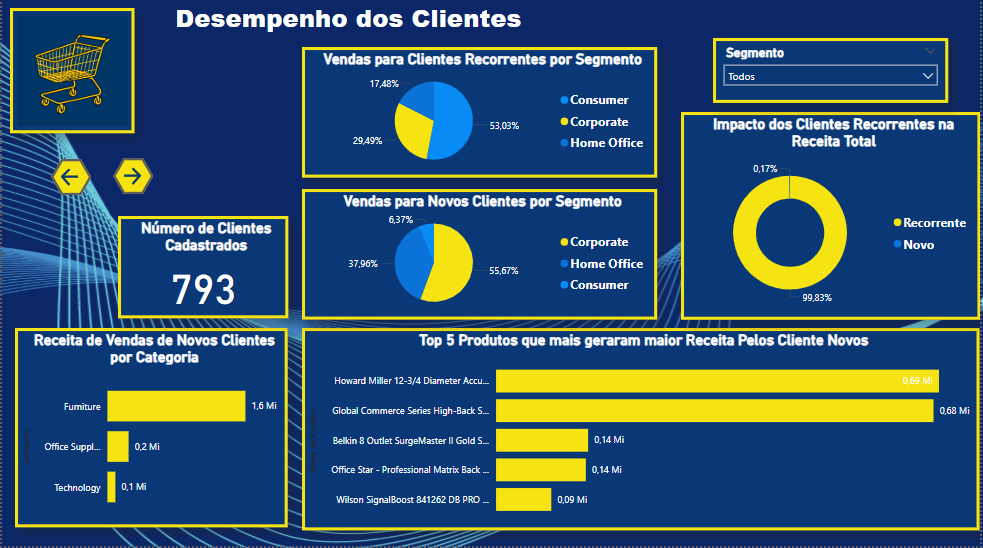

What the dashboard file says about the page in this screenshot:
{"tool":"powerbi","page":{"name":"Clientes","canvas":[1280,720],"ordinal":4},"visuals":[{"type":"clusteredBarChart","title":"Top 5 Produtos que mais geraram maior Receita Pelos Cliente Novos","fields":{"Category":["PRODUTOS.Nome do Produto"],"Y":["Medidas.Vendas Não Recorrentes"]},"box":[393.1,435.1,886.9,265.4],"z":0},{"type":"clusteredBarChart","title":"Receita de Vendas de Novos Clientes por Categoria","fields":{"Category":["PRODUTOS.Categoria"],"Y":["Medidas.Vendas Não Recorrentes"]},"box":[17.3,434.9,357.1,260.6],"z":1000},{"type":"donutChart","title":"Impacto dos Clientes Recorrentes na Receita Total","fields":{"Category":["CLIENTES.Tipo de Cliente"],"Y":["Medidas.ReceitaTotal"]},"box":[888.5,151.2,391.7,272.2],"z":2000},{"type":"image","box":[10.1,15.8,162.7,164.2],"z":3000},{"type":"pieChart","title":"Vendas para Novos Clientes por Segmento","fields":{"Category":["CLIENTES.Segmento"],"Y":["Medidas.Vendas Não Recorrentes"]},"box":[393.1,252,465.1,171.4],"z":4000},{"type":"pieChart","title":"Vendas para Clientes Recorrentes por Segmento","fields":{"Category":["CLIENTES.Segmento"],"Y":["Medidas.Vendas Recorrentes"]},"box":[393.1,66.2,465.1,171.4],"z":5000},{"type":"textbox","box":[195.8,0,514.1,66.2],"z":6000},{"type":"card","title":"Número de Clientes Cadastrados","fields":{"Values":["Count(CLIENTES.ID do Cliente)"]},"box":[151.2,288,223.2,133.9],"z":7000},{"type":"slicer","fields":{"Values":["CLIENTES.Segmento"]},"box":[930.2,54.7,308.2,85],"z":8000},{"type":"actionButton","box":[64.8,213.1,53.3,47.5],"z":9000},{"type":"actionButton","box":[145.4,211.7,53.3,47.5],"z":10000}]}

Visuals, with their boxes in screenshot pixels (x1, y1, x2, y2), scaled from the page's 1280x720 canvas onto the 983x548 screenshot:
"Top 5 Produtos que mais geraram maior Receita Pelos Cliente Novos" clusteredBarChart: bbox=(302, 331, 982, 533)
"Receita de Vendas de Novos Clientes por Categoria" clusteredBarChart: bbox=(13, 331, 288, 529)
"Impacto dos Clientes Recorrentes na Receita Total" donutChart: bbox=(682, 115, 982, 322)
image: bbox=(8, 12, 133, 137)
"Vendas para Novos Clientes por Segmento" pieChart: bbox=(302, 192, 659, 322)
"Vendas para Clientes Recorrentes por Segmento" pieChart: bbox=(302, 50, 659, 181)
textbox: bbox=(150, 0, 545, 50)
"Número de Clientes Cadastrados" card: bbox=(116, 219, 288, 321)
slicer - CLIENTES.Segmento: bbox=(714, 42, 951, 106)
actionButton: bbox=(50, 162, 91, 198)
actionButton: bbox=(112, 161, 153, 197)
